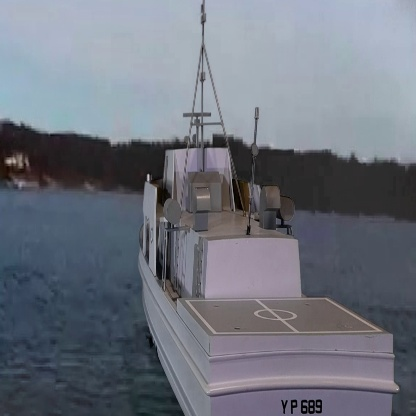YP689: (137, 0, 398, 416)
